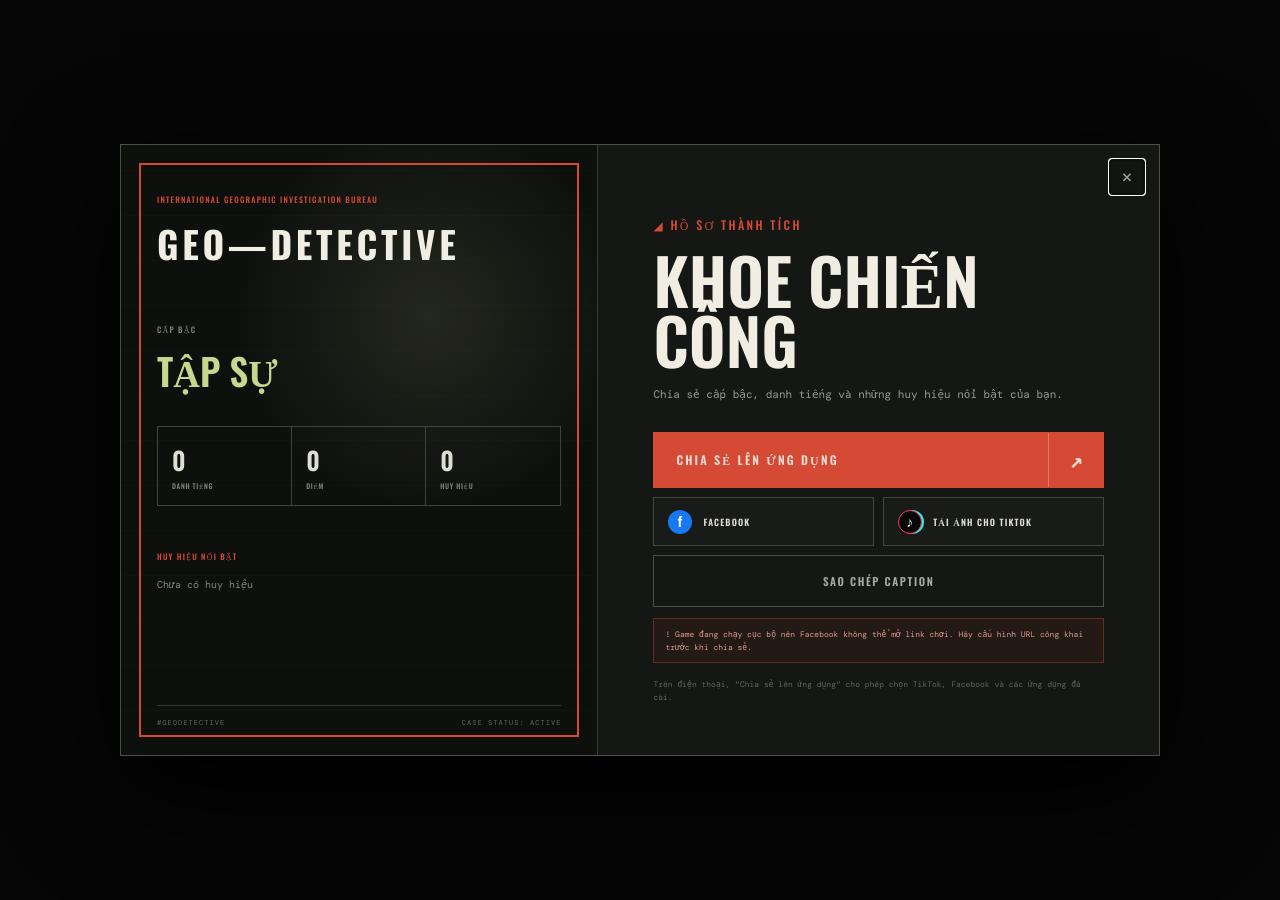
Test: AchievementShare › does not open an unusable Facebook composer for a localhost game
This screenshot has width=1280, height=900.
Step 1. Click the button "f FACEBOOK" → point(764, 522), box [654,498,874,546]
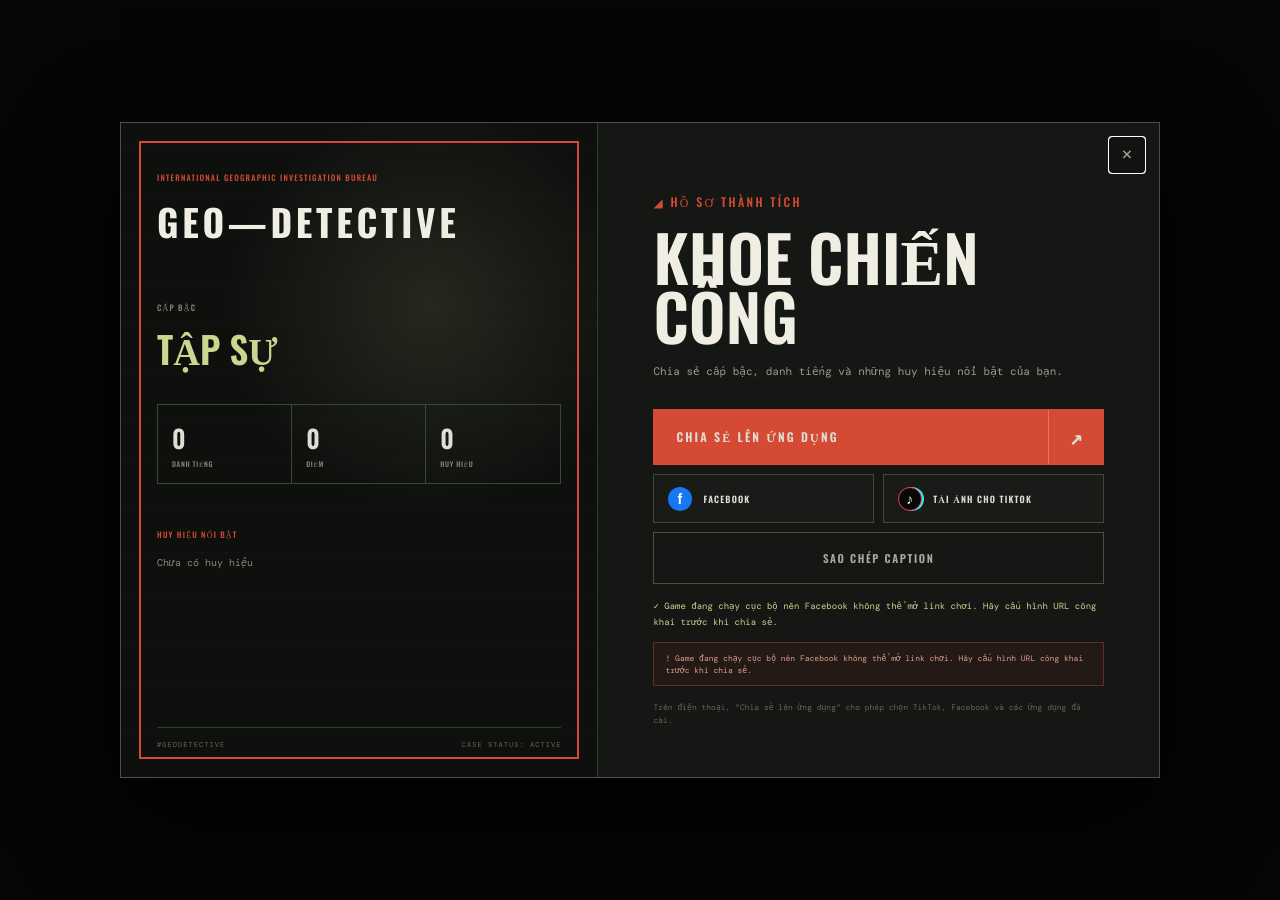
Now the text "Game đang chạy cục bộ" is shown, box [654,600,1096,628]
